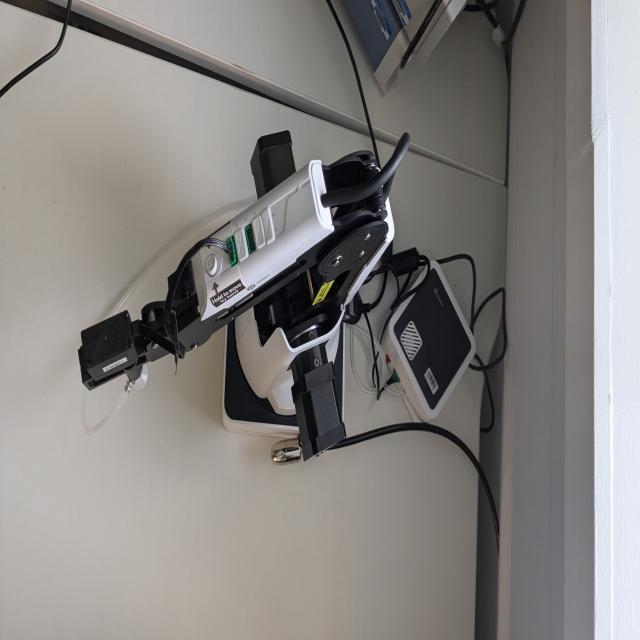Robot-end-effector-HF8z: (77, 308, 151, 404)
